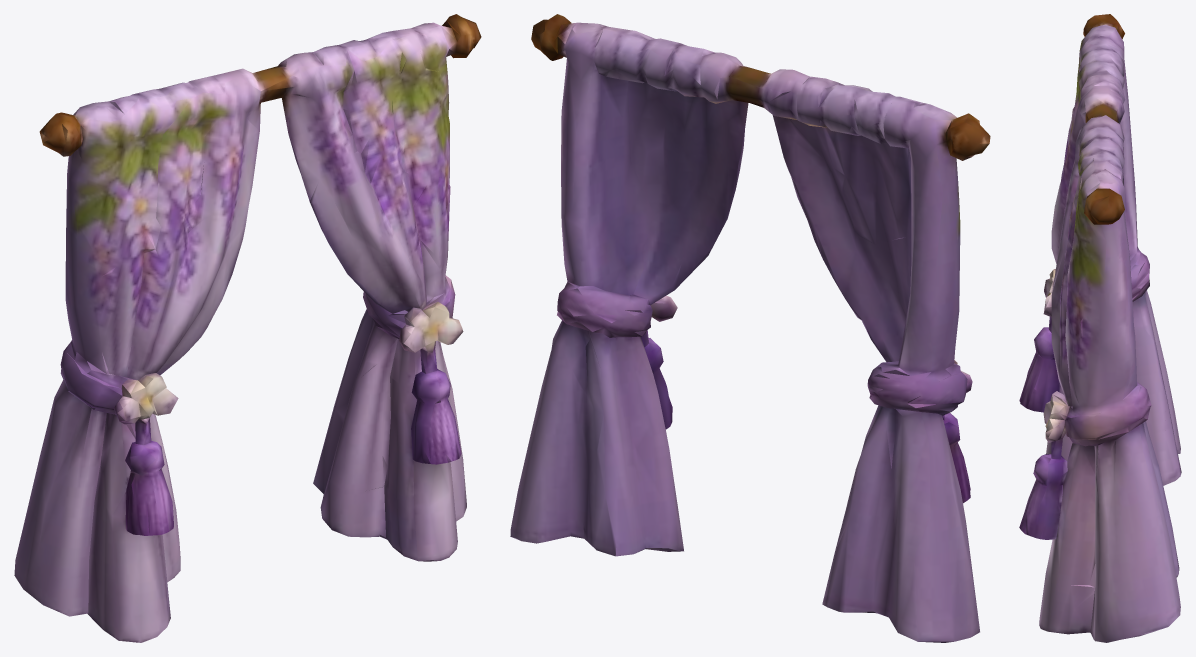
Rendered from curtain05.glb.
3 views of the same model, side by side, from view 1: azimuth 30°, elevation 25°; view 2: azimuth 150°, elevation 25°; view 3: azimuth 270°, elevation 25° (orthographic). The views are drawn at different scales.
Size of the model in its own units: 0.2419 by 0.2716 by 0.0852.
Materials: 1 (1 with a texture image).
